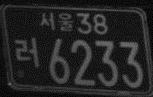2: (71, 39, 94, 86)
3: (119, 40, 143, 89), (95, 39, 118, 87), (76, 12, 92, 34)
6: (47, 38, 70, 85)
8: (93, 13, 107, 35)
러: (14, 36, 41, 67)
서울_O: (38, 11, 74, 33)
